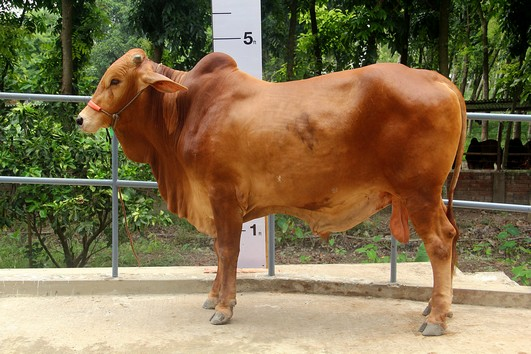cow: (64, 31, 474, 344)
